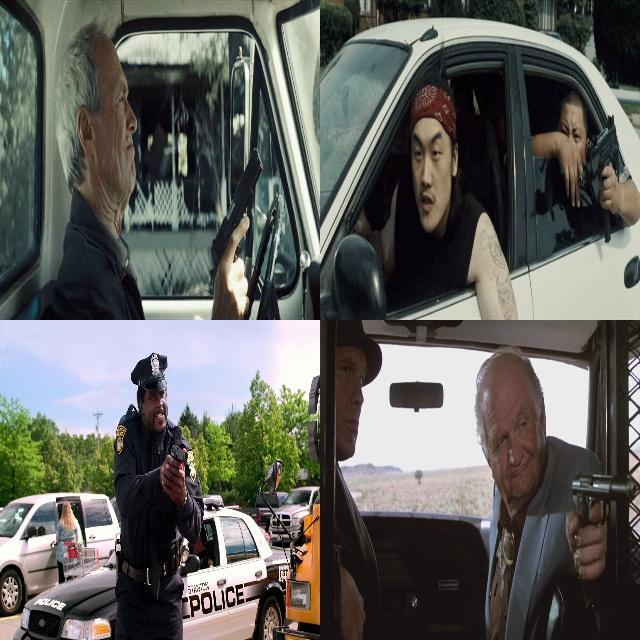gun-knife-thesis - v11 Yolov5 augmented: (207, 143, 262, 319), (565, 465, 633, 577), (576, 107, 621, 244), (164, 441, 187, 492)
